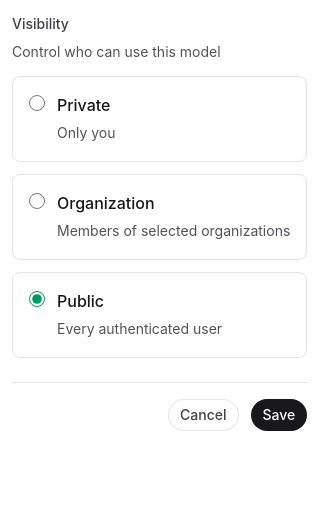
Test case: ModelPermissionsPanel › Save payloads › surfaces API errors
The width and height of the screenshot is (332, 528).
Click the button with test id "model-permissions-save-button": point(279, 415) [250,399,307,431]
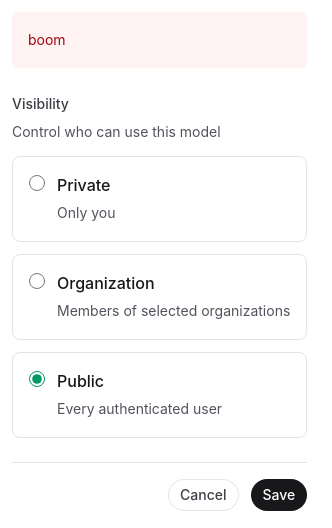
Expected: the element with test id "model-permissions-error" is shown, [12,12,307,68]
